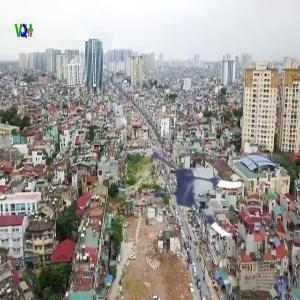drone: (141, 132, 256, 247)
